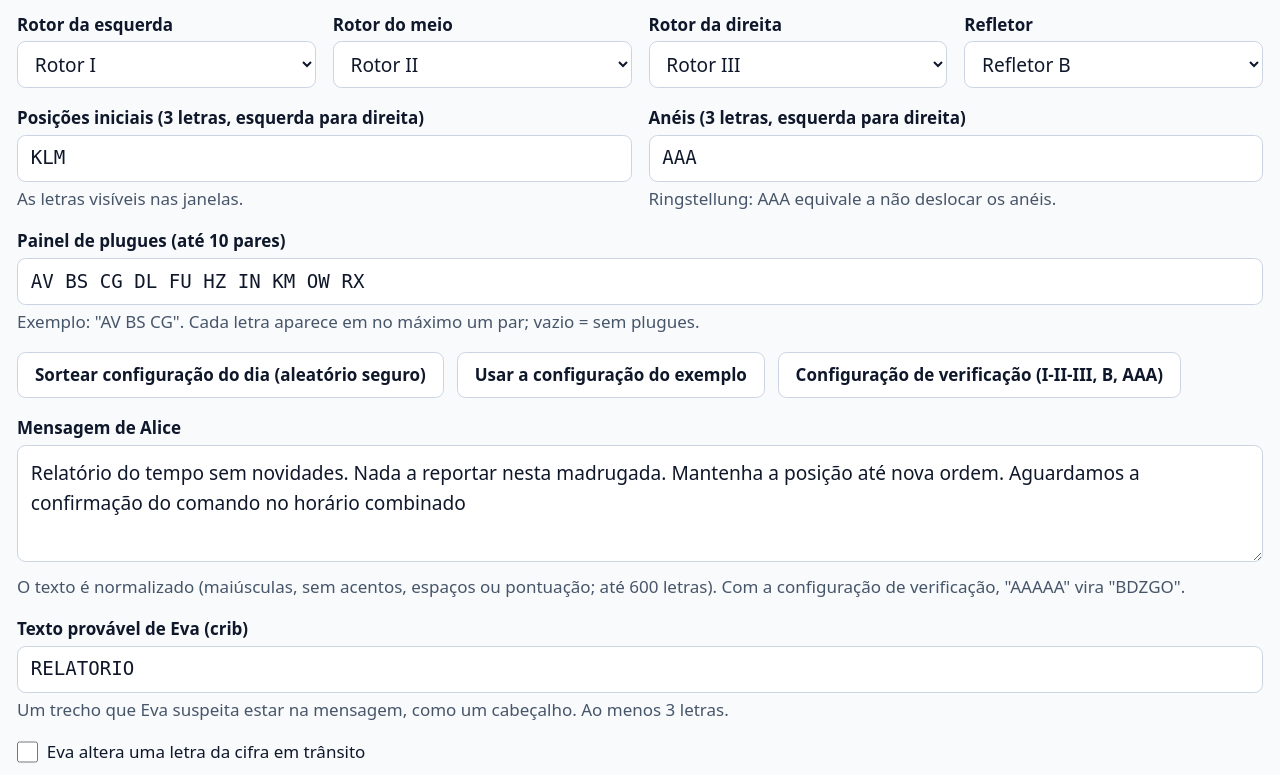
it: laboratório da Máquina Enigma › mostra o caminho do sinal em dez estágios, com o teclado e a lâmpada
(page scrolled)
Click the button "Configuração de verificação (I-II-III, B, AAA)".
click(979, 375)  # box [778,352,1181,398]
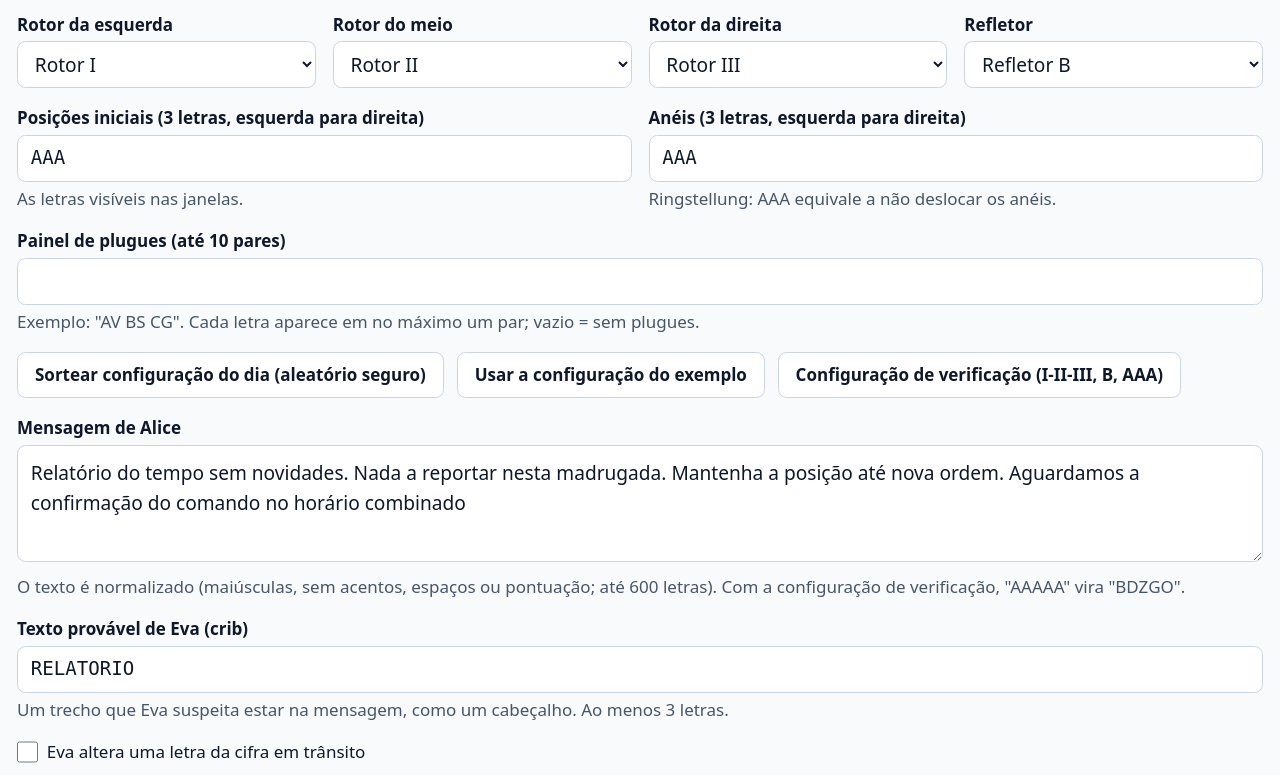
Replace the text in the text box labelled "Mensagem de Alice" with "AAAAA" at [640, 504], box [17,445,1263,562]
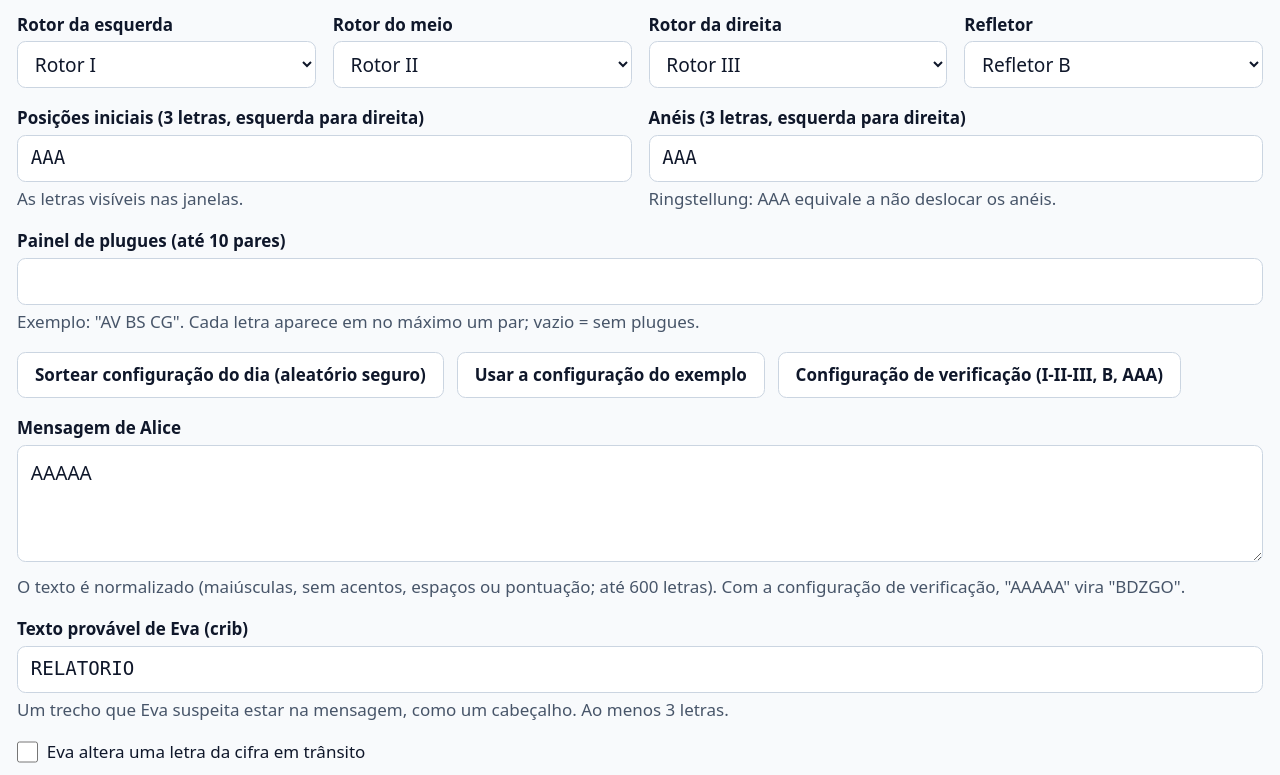
Replace the text in the field labelled "Texto provável de Eva (crib)" with "AAA" at [640, 669], box [17,646,1263,693]
(page scrolled)
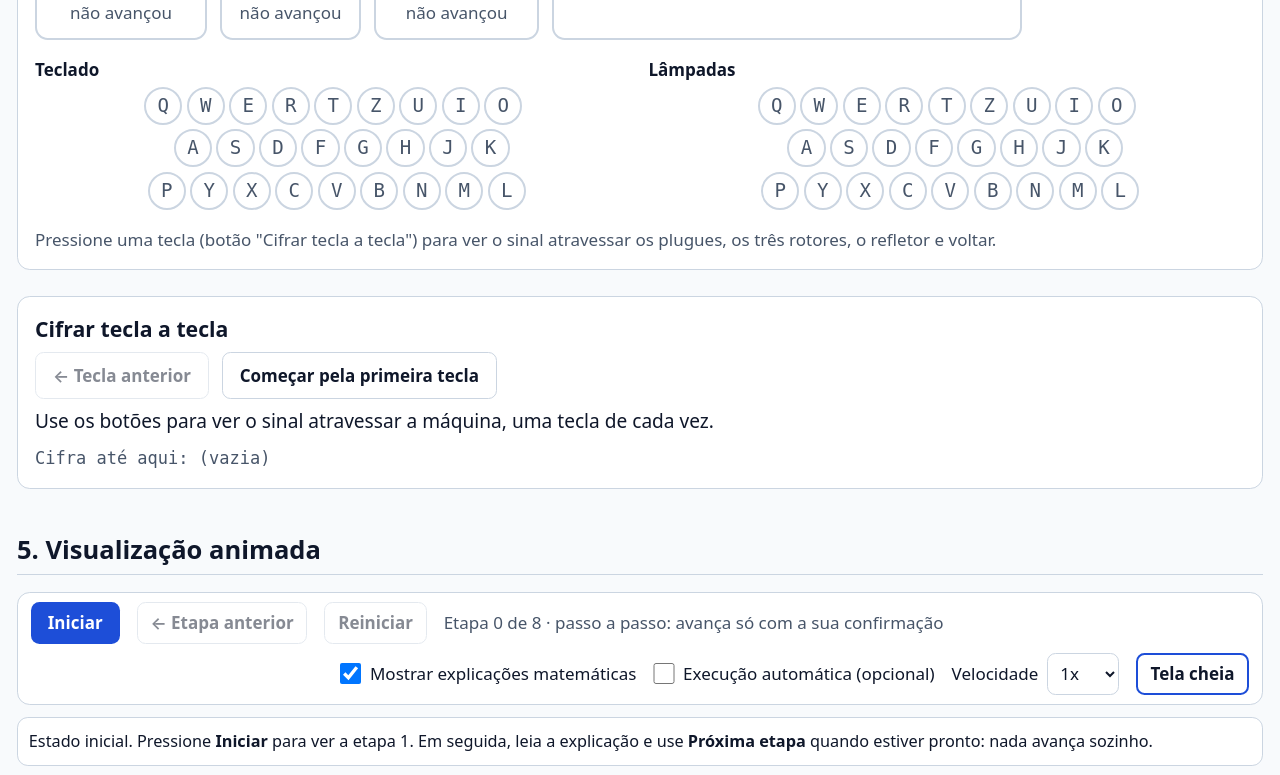
Check: the text "Pressione uma tecla" is shown, box [35,228,996,251]
Click the button "Começar pela primeira tecla".
click(359, 375)  # box [222,352,497,399]
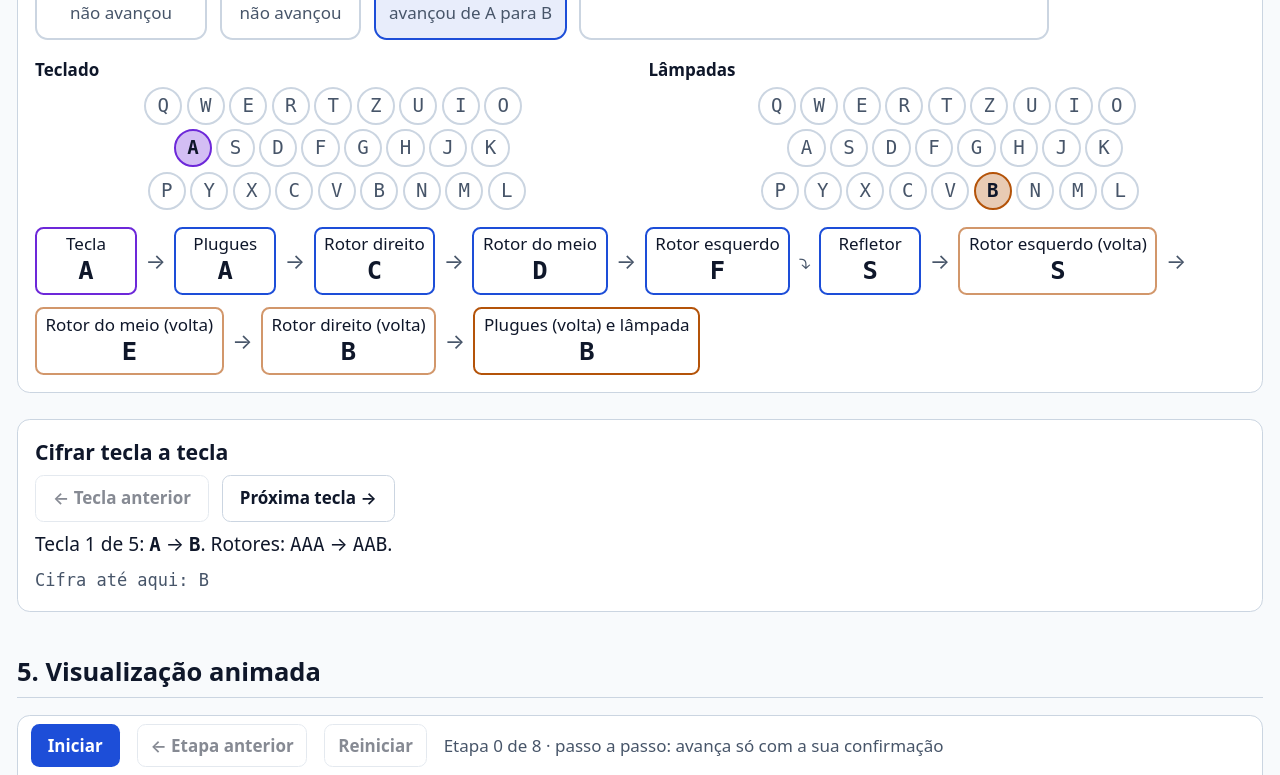
Check: the text "Refletor" is shown, box [838,232,902,255]
Check: the text "Tecla 1 de 5: A → B. Rotores: AAA → AAB." is shown, box [35,531,392,557]
Check: the text "Cifra até aqui: B" is shown, box [35,570,209,590]
